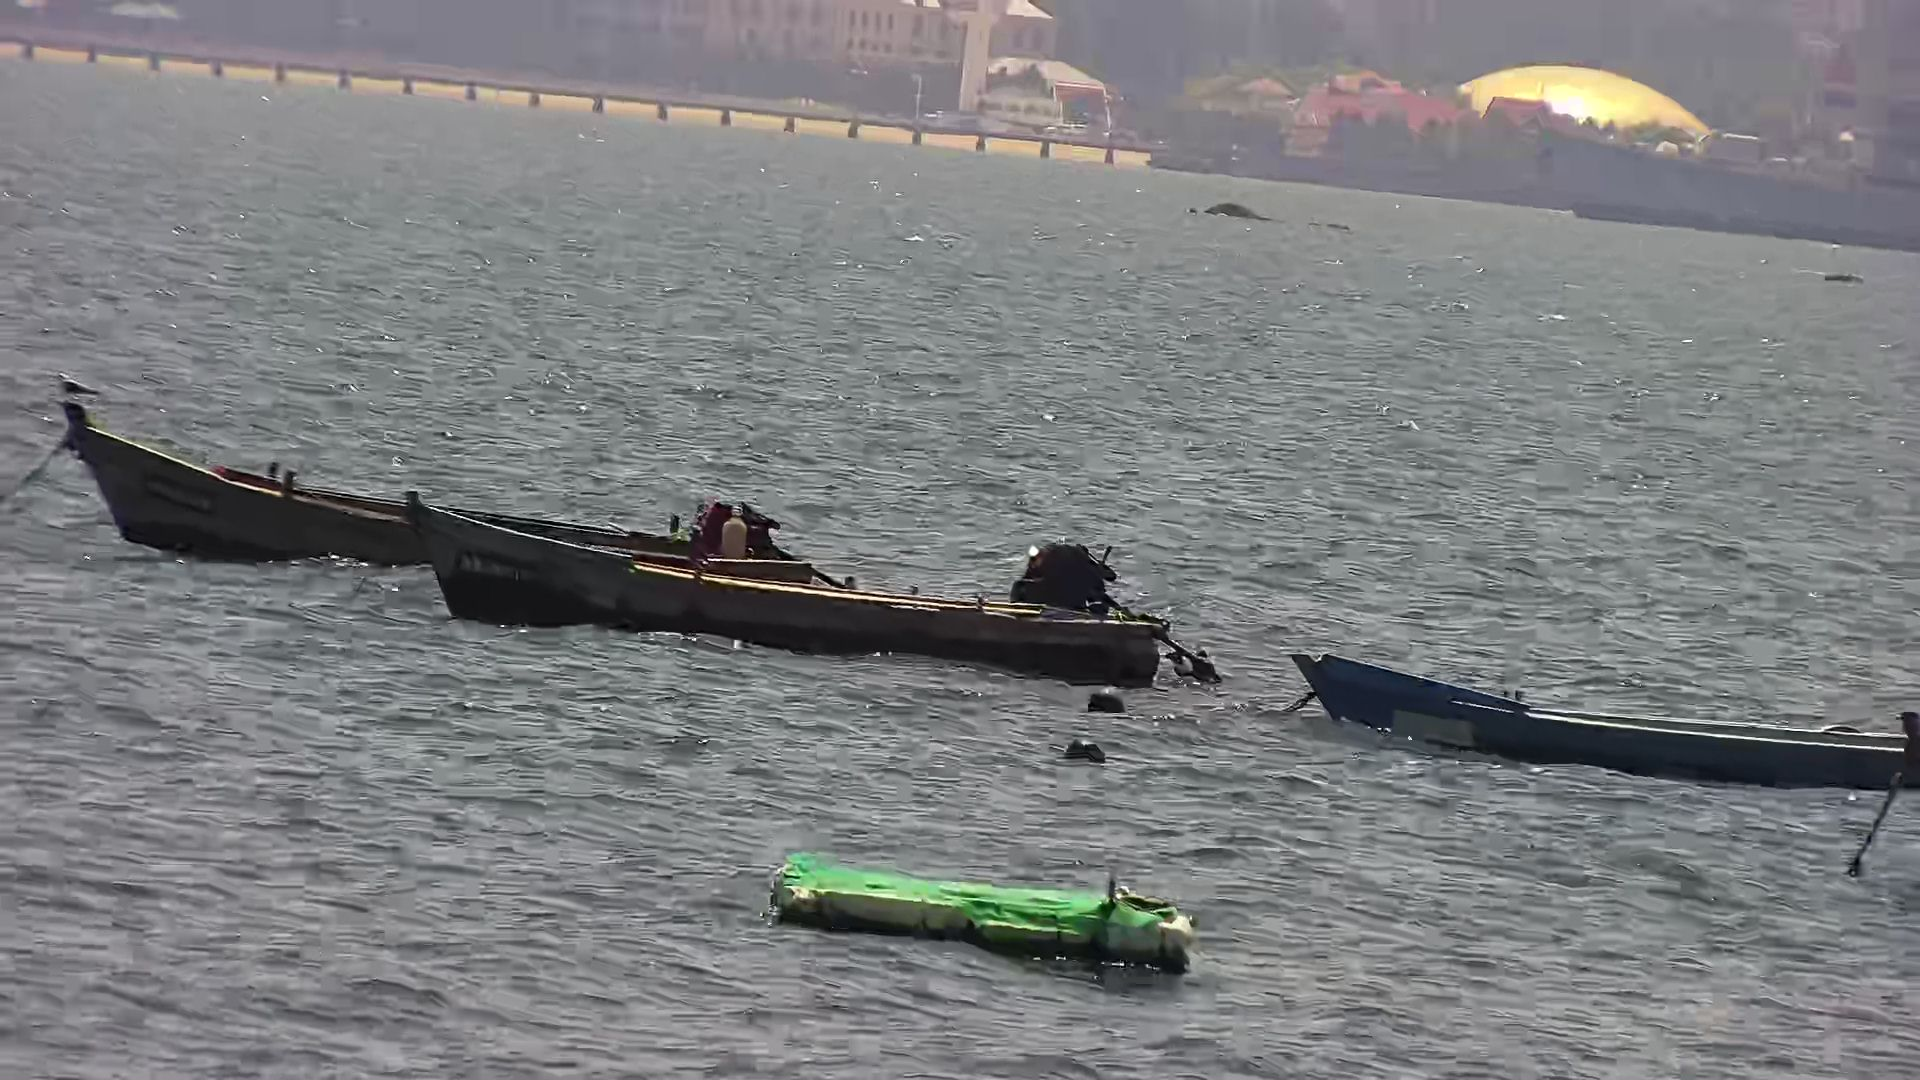ball: (1080, 678, 1155, 721), (1054, 731, 1121, 769)
boat: (386, 481, 1233, 691), (1276, 626, 1920, 884), (45, 394, 793, 582)
rock: (1189, 196, 1284, 222), (1815, 266, 1870, 287)
rubbish: (720, 822, 1207, 990)
